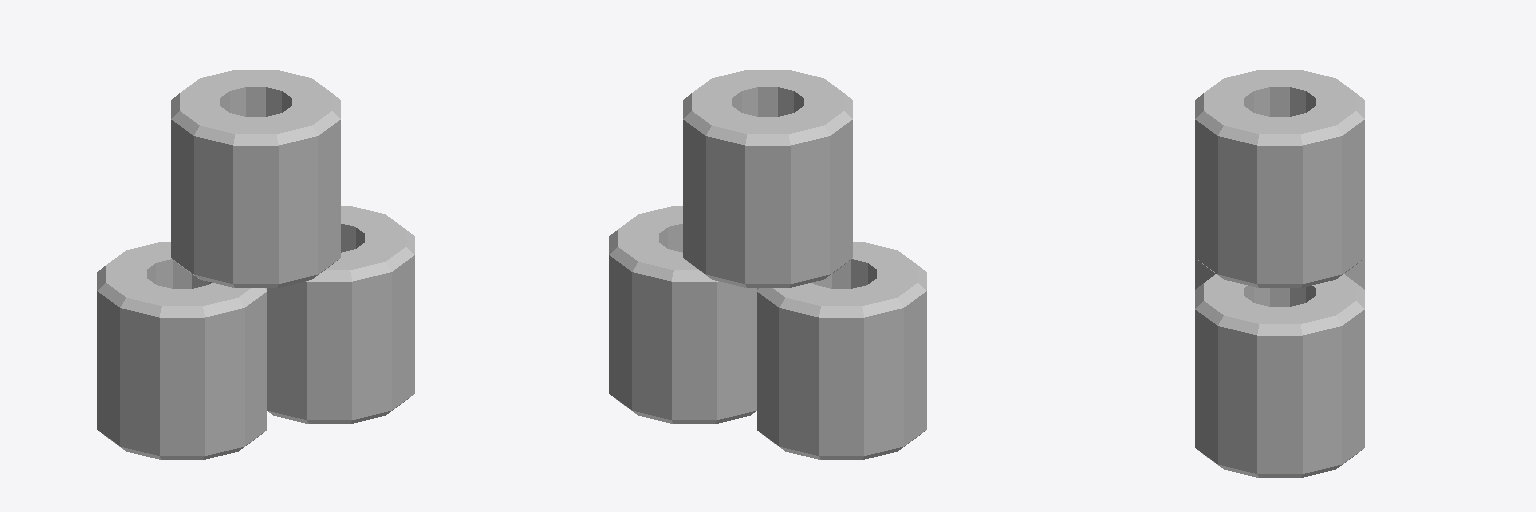
File: toilet_roll_stack.obj
3 renders of one model, left to right at view 1: azimuth 30°, elevation 25°; view 2: azimuth 150°, elevation 25°; view 3: azimuth 270°, elevation 25°, orthographic.
Parts seen in each view (by area): view 1: toilet_roll_stack; view 2: toilet_roll_stack; view 3: toilet_roll_stack.
Boxes of the visible parts, box(x1,y1,x2,y2) form: toilet_roll_stack: box(97, 70, 414, 459); toilet_roll_stack: box(609, 70, 926, 459); toilet_roll_stack: box(1195, 70, 1364, 477).
Bounding box in the file's own units: 0.6 × 0.6 × 0.3.